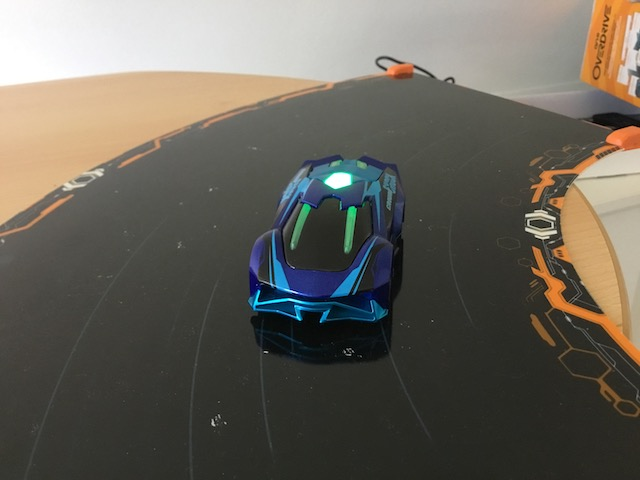car-blue: (242, 147, 408, 343)
